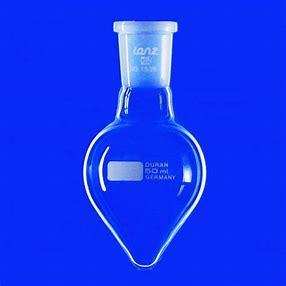Pear shaped flask: (70, 12, 209, 270)
